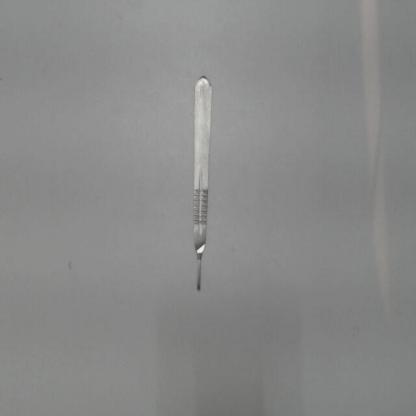No.3 BP Handle: (187, 62, 215, 292)
